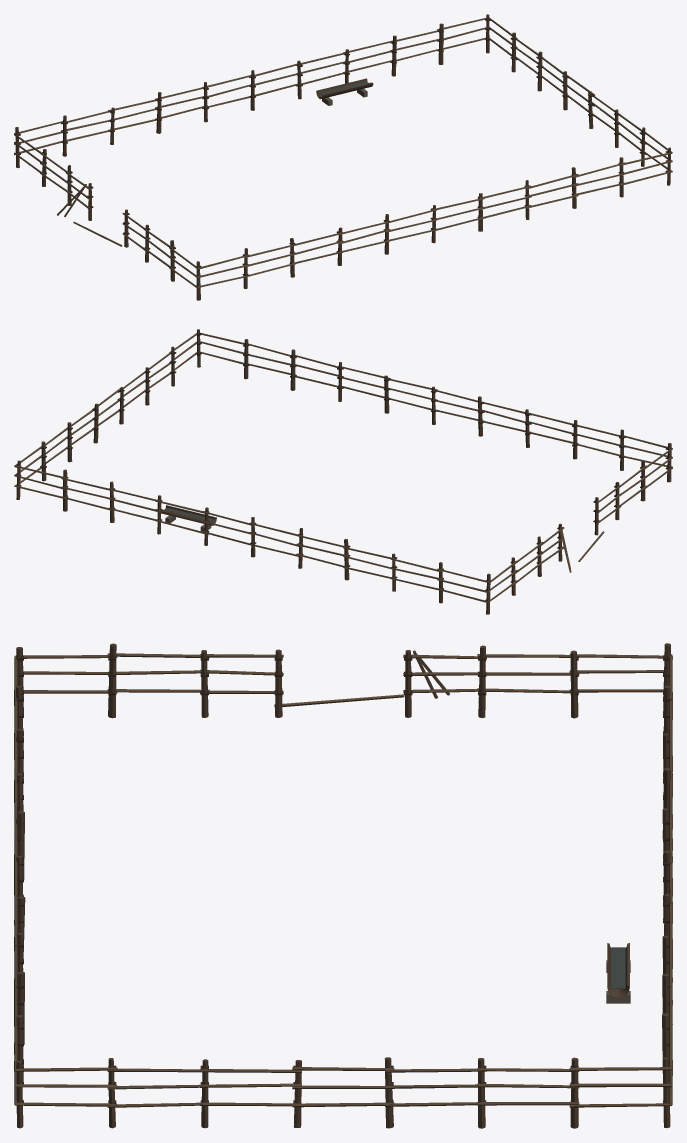
File: corral_grande.glb
The picture shows the model from 3 angles, top to bottom: view 1: azimuth 30°, elevation 25°; view 2: azimuth 150°, elevation 25°; view 3: azimuth 270°, elevation 25°; orthographic projection. The views are drawn at different scales.
Visible parts, largest first — view 1: CorralGrande; view 2: CorralGrande; view 3: CorralGrande.
Part boxes in pixels (box(x1,y1,x2,y2)): CorralGrande: box(14, 14, 672, 300); CorralGrande: box(14, 329, 672, 614); CorralGrande: box(14, 643, 672, 1128).
Size of what is drawn, in the model's own units: 25.28 by 1.95 by 16.29.
